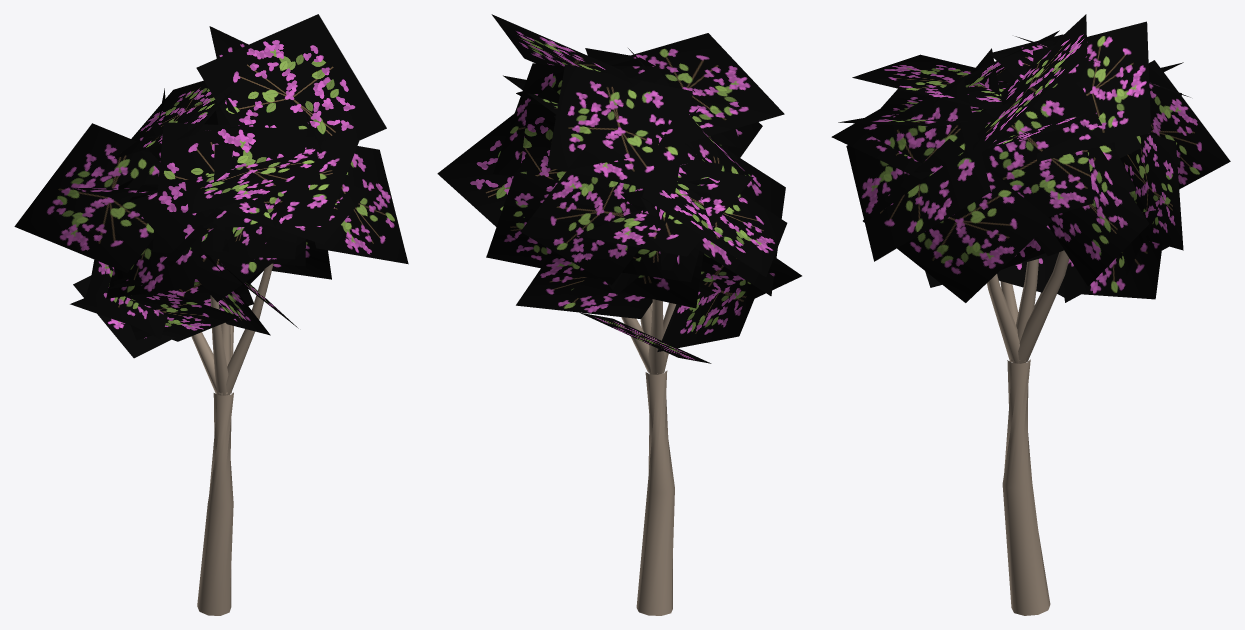
The model's file is handroanthus-impetiginosus.glb.
3 renders of one model, left to right at view 1: azimuth 30°, elevation 25°; view 2: azimuth 150°, elevation 25°; view 3: azimuth 270°, elevation 25°, orthographic. The views are drawn at different scales.
Parts seen in each view (by area): view 1: folhas, tronco; view 2: folhas, tronco; view 3: folhas, tronco.
Part boxes in pixels (x1=…): folhas: x1=14, y1=14, x2=408, y2=358; tronco: x1=191, y1=263, x2=273, y2=615; folhas: x1=437, y1=14, x2=801, y2=363; tronco: x1=621, y1=299, x2=676, y2=615; folhas: x1=831, y1=14, x2=1230, y2=302; tronco: x1=987, y1=250, x2=1069, y2=615.
Size of the model in its own units: 7 by 12 by 6.95.
Materials: 2 (1 with a texture image).
